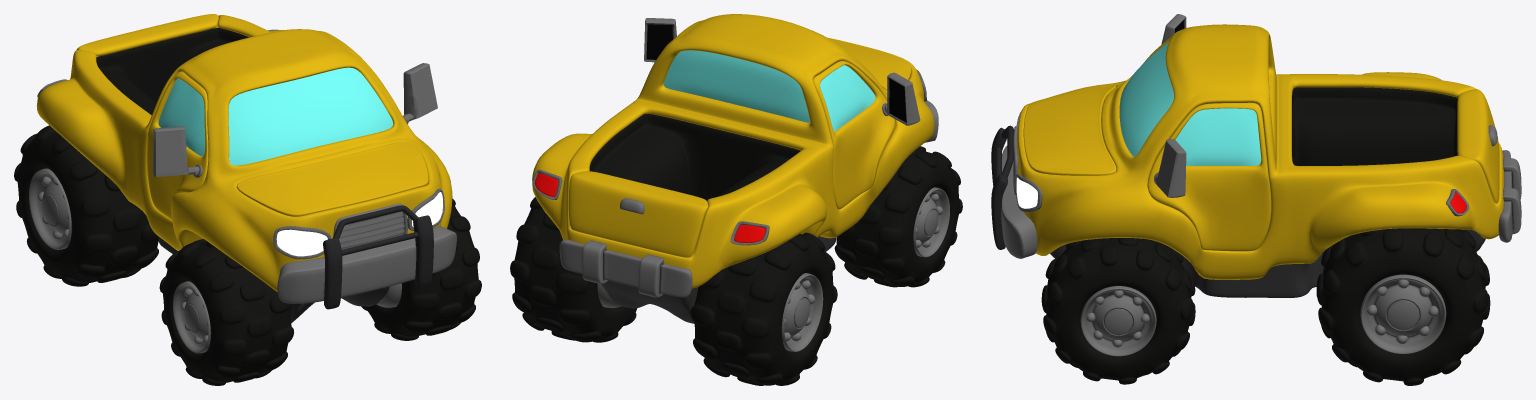
The model's file is pickup_truck.glb.
3 views of the same model, side by side, from view 1: azimuth 30°, elevation 25°; view 2: azimuth 150°, elevation 25°; view 3: azimuth 270°, elevation 25° (orthographic). The views are drawn at different scales.
Parts seen in each view (by area): view 1: Object_4, Object_14, Object_12, Object_6, Object_5, Object_13, Object_7, Object_2, Object_8, Object_3, Object_11; view 2: Object_4, Object_14, Object_13, Object_12, Object_5, Object_7, Object_6, Object_11, Object_9, Object_10; view 3: Object_4, Object_14, Object_13, Object_7, Object_12, Object_5, Object_11, Object_6, Object_2, Object_3, Object_8.
Boxes of the visible parts, box(x1,y1,x2,y2) form: Object_4: box(36, 14, 452, 291); Object_14: box(14, 125, 481, 385); Object_12: box(158, 67, 393, 165); Object_6: box(37, 29, 444, 259); Object_5: box(277, 226, 456, 303); Object_13: box(96, 27, 248, 114); Object_7: box(29, 168, 401, 353); Object_2: box(323, 215, 433, 309); Object_8: box(276, 192, 442, 256); Object_3: box(333, 205, 418, 255); Object_11: box(158, 237, 389, 323); Object_4: box(532, 14, 934, 288); Object_14: box(510, 146, 962, 385); Object_13: box(589, 114, 800, 200); Object_12: box(663, 50, 875, 131); Object_5: box(559, 100, 938, 297); Object_7: box(597, 187, 949, 351); Object_6: box(532, 18, 926, 341); Object_11: box(601, 236, 836, 323); Object_9: box(646, 24, 906, 122); Object_10: box(534, 173, 765, 242); Object_4: box(1017, 24, 1503, 279); Object_14: box(1041, 228, 1490, 385); Object_13: box(1292, 87, 1457, 165); Object_7: box(1080, 274, 1446, 356); Object_12: box(1119, 41, 1261, 165); Object_5: box(1001, 125, 1521, 258); Object_11: box(1050, 229, 1485, 297); Object_6: box(1013, 14, 1469, 344); Object_2: box(991, 127, 1007, 249); Object_3: box(995, 125, 1013, 180); Object_8: box(1016, 177, 1037, 208).
Size of the model in its own units: 3 by 2.72 by 4.7.
Materials: 9 (6 with a texture image).
